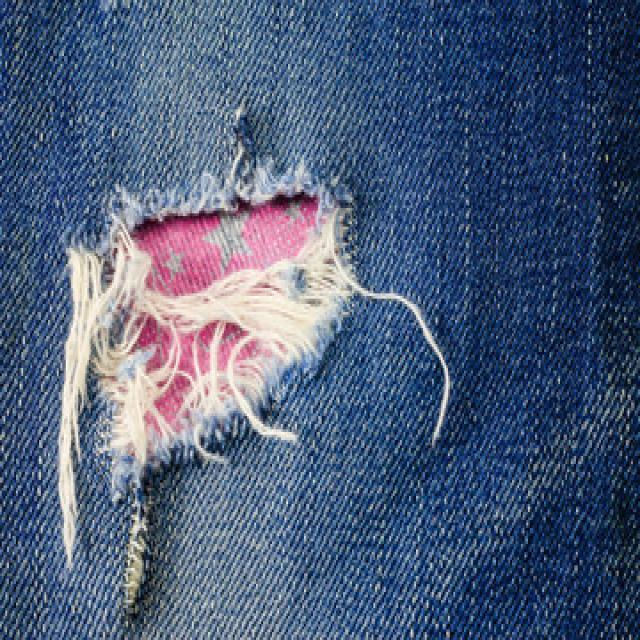Hole: (58, 172, 356, 568), (124, 505, 148, 616)
